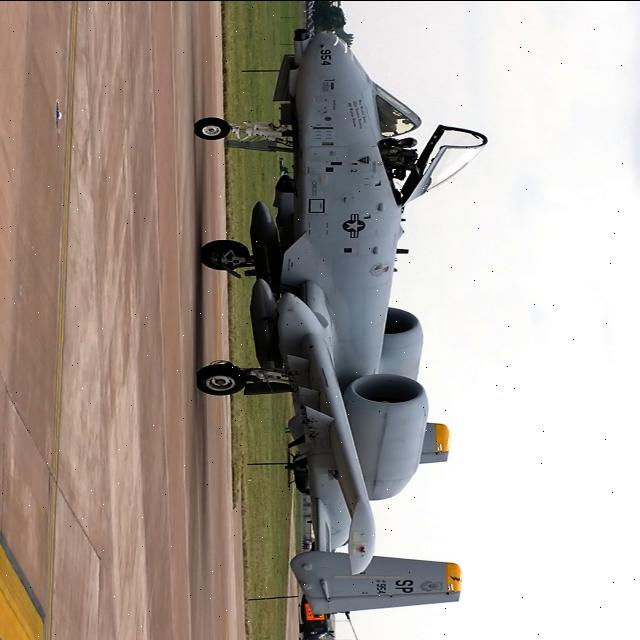A10: (153, 16, 522, 592)
